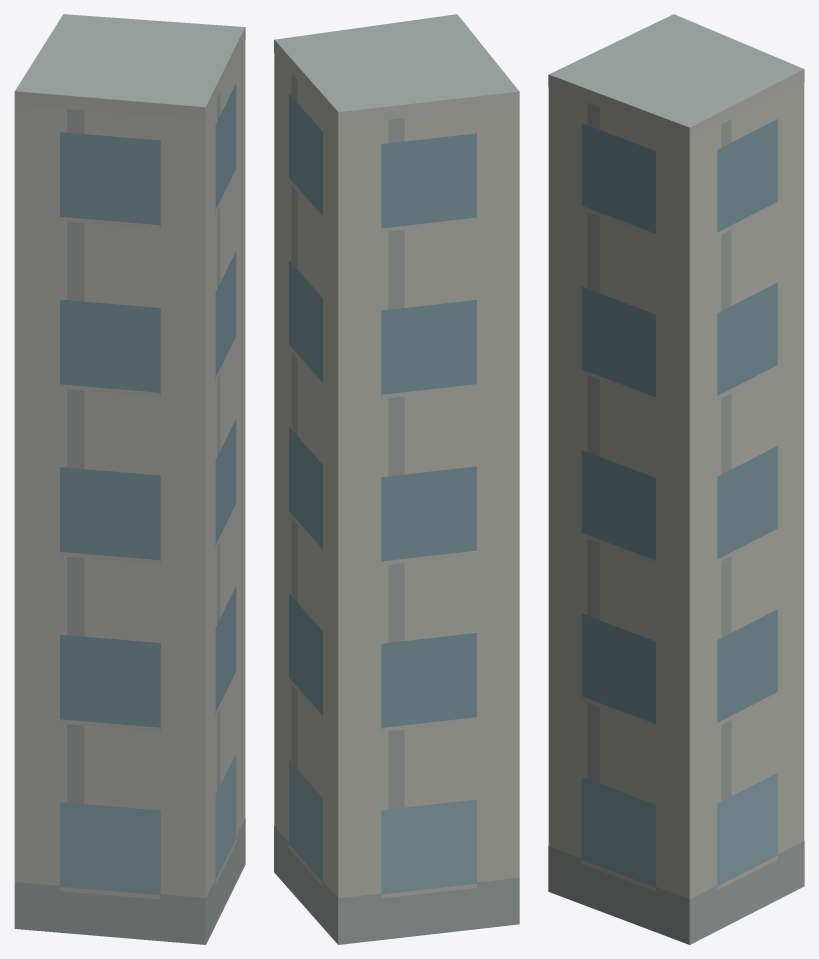
Rendered from survey-upis-33005565.glb.
3 renders of one model, left to right at view 1: azimuth 30°, elevation 25°; view 2: azimuth 150°, elevation 25°; view 3: azimuth 270°, elevation 25°, orthographic. The views are drawn at different scales.
Visible parts, largest first — view 1: survey-upis-33005565.tmp; view 2: survey-upis-33005565.tmp; view 3: survey-upis-33005565.tmp.
Part boxes in pixels (bbox=[...]): survey-upis-33005565.tmp: bbox=[14, 14, 245, 944]; survey-upis-33005565.tmp: bbox=[274, 14, 519, 944]; survey-upis-33005565.tmp: bbox=[548, 14, 804, 944].
Size of the model in its own units: 4.55 by 15.25 by 4.33.
